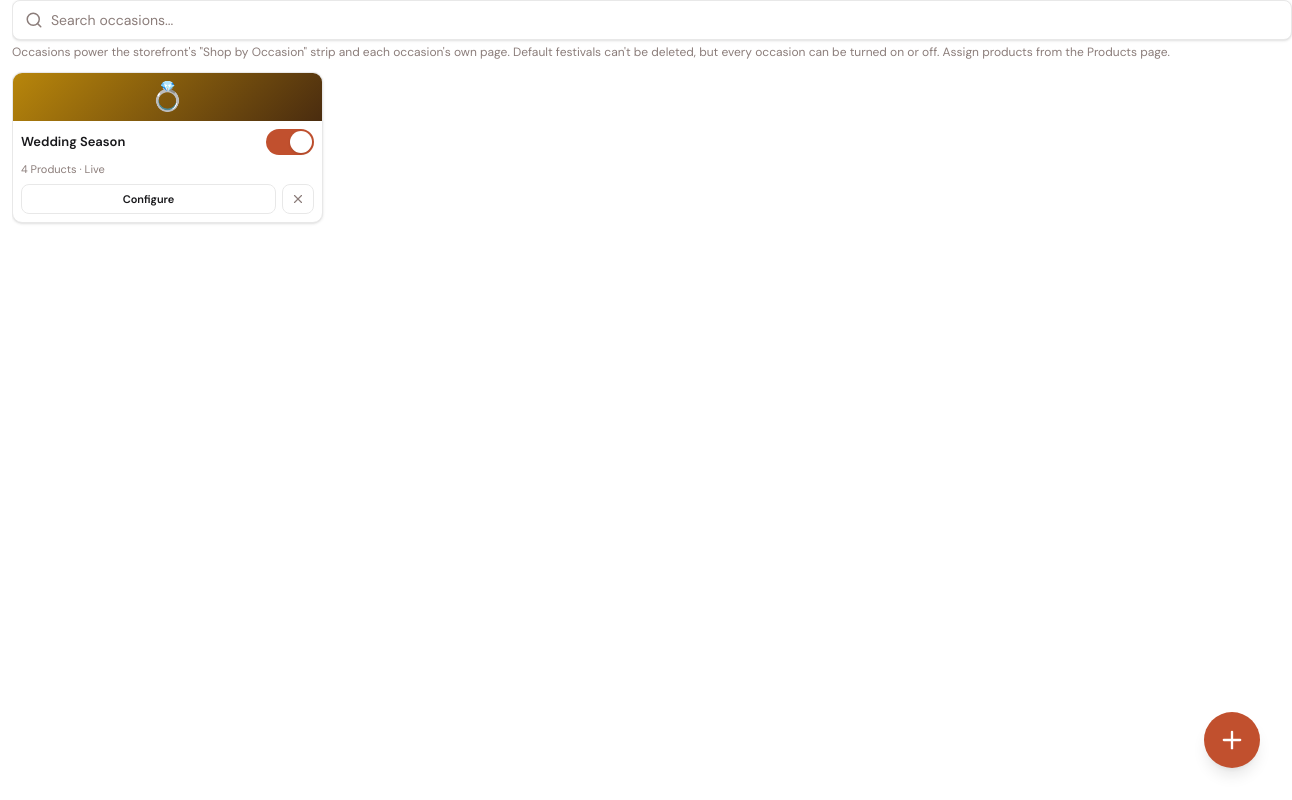
Test: OccasionsClient › shows an error and does not refresh when toggling status fails
Click the button without text next to "Wedding Season".
click(290, 142)  # box [266,129,314,155]
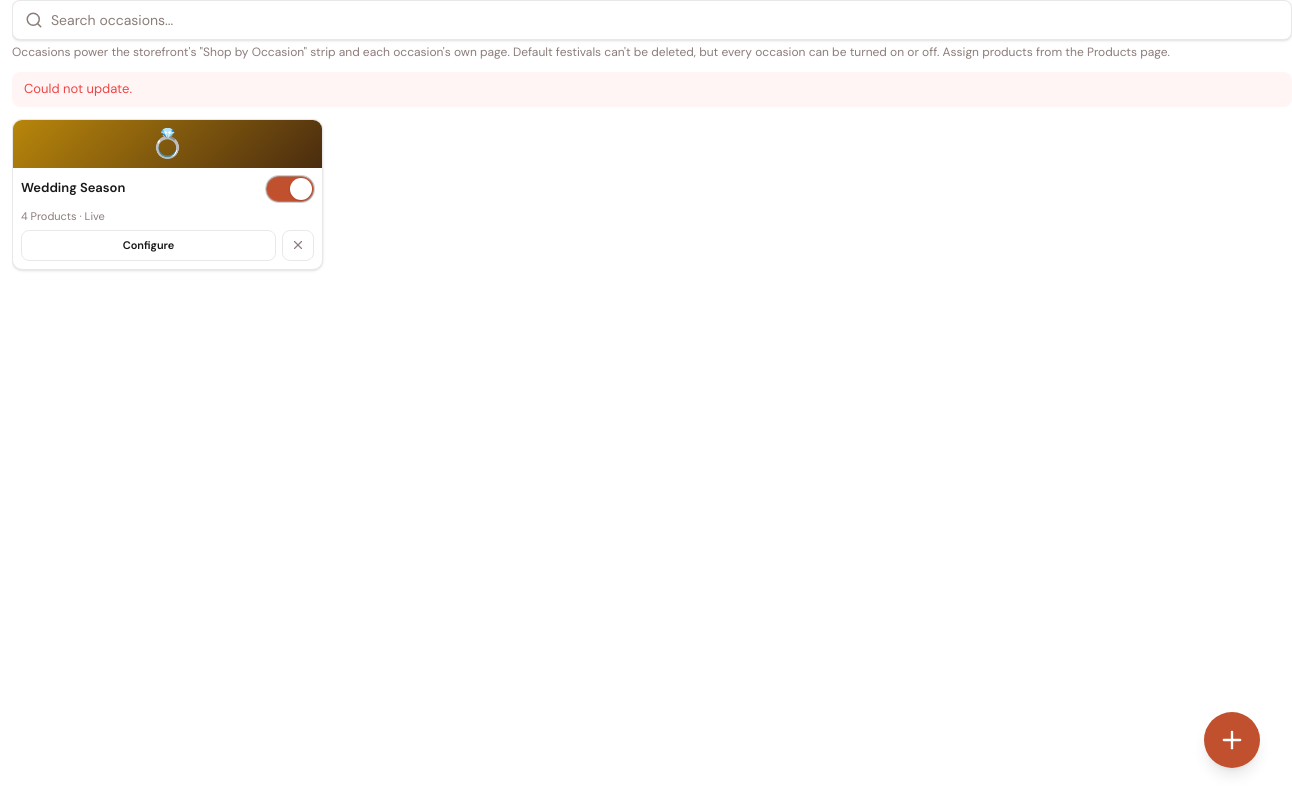
Result: the text "Could not update." is shown at [12,72,1291,107]
